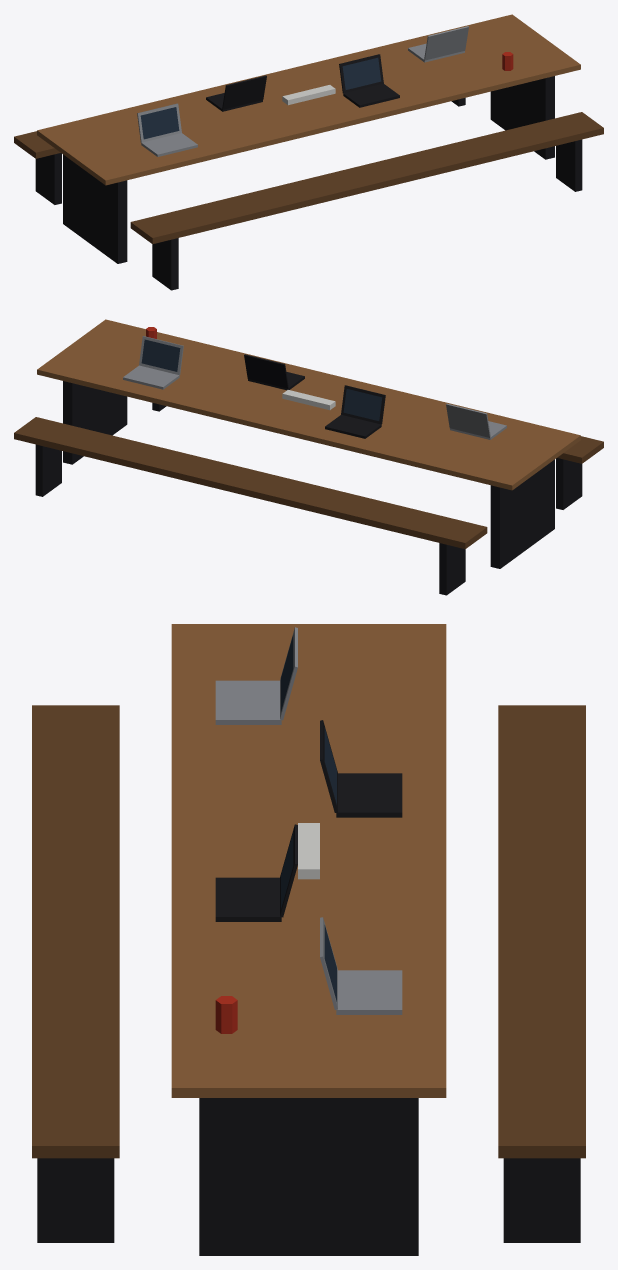
File: prop_long-desk.glb
3 views of the same model, one above another, from view 1: azimuth 30°, elevation 25°; view 2: azimuth 150°, elevation 25°; view 3: azimuth 270°, elevation 25° (orthographic). The views are drawn at different scales.
Parts seen in each view (by area): view 1: body; view 2: body; view 3: body.
Part boxes in pixels (x1,y1,x2,y2): body: (14, 14, 603, 290); body: (14, 319, 603, 595); body: (32, 624, 585, 1255).
Bounding box in the file's own units: 4 × 0.9846 × 2.02.
